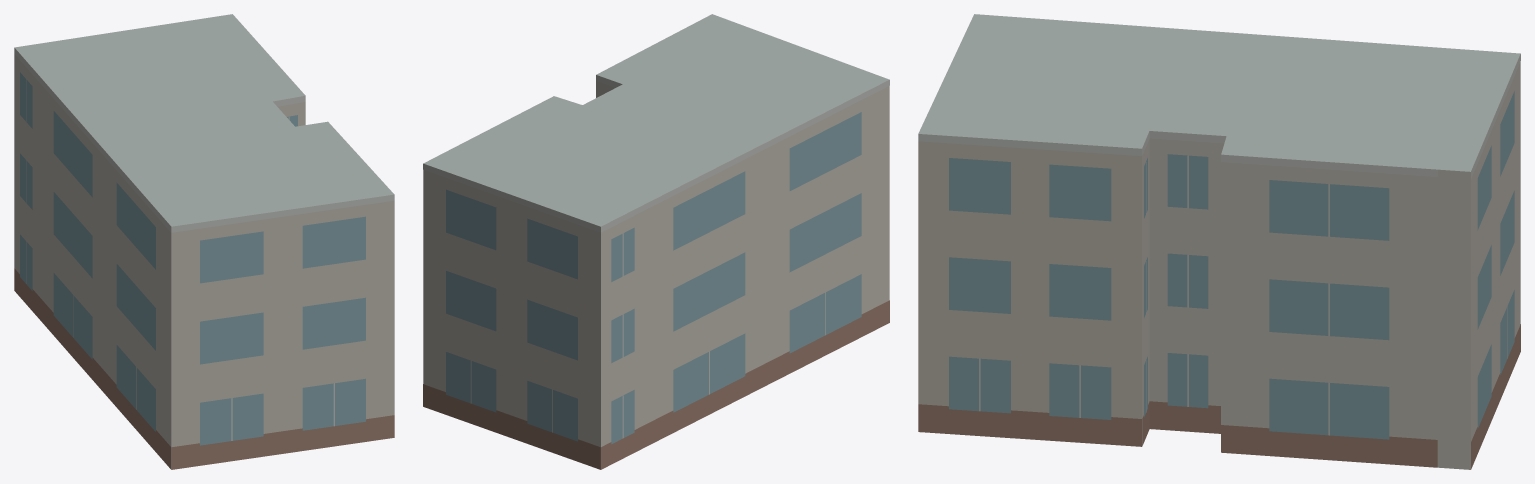
The model's file is survey-upis-32872180.glb.
3 renders of one model, left to right at view 1: azimuth 30°, elevation 25°; view 2: azimuth 150°, elevation 25°; view 3: azimuth 270°, elevation 25°, orthographic. The views are drawn at different scales.
Parts seen in each view (by area): view 1: survey-upis-32872180.tmp; view 2: survey-upis-32872180.tmp; view 3: survey-upis-32872180.tmp.
Part boxes in pixels (x1,y1,x2,y2): survey-upis-32872180.tmp: [14, 14, 394, 469]; survey-upis-32872180.tmp: [423, 14, 889, 469]; survey-upis-32872180.tmp: [918, 14, 1520, 469].
Size of the model in its own units: 11.13 by 9.8 by 17.96.
